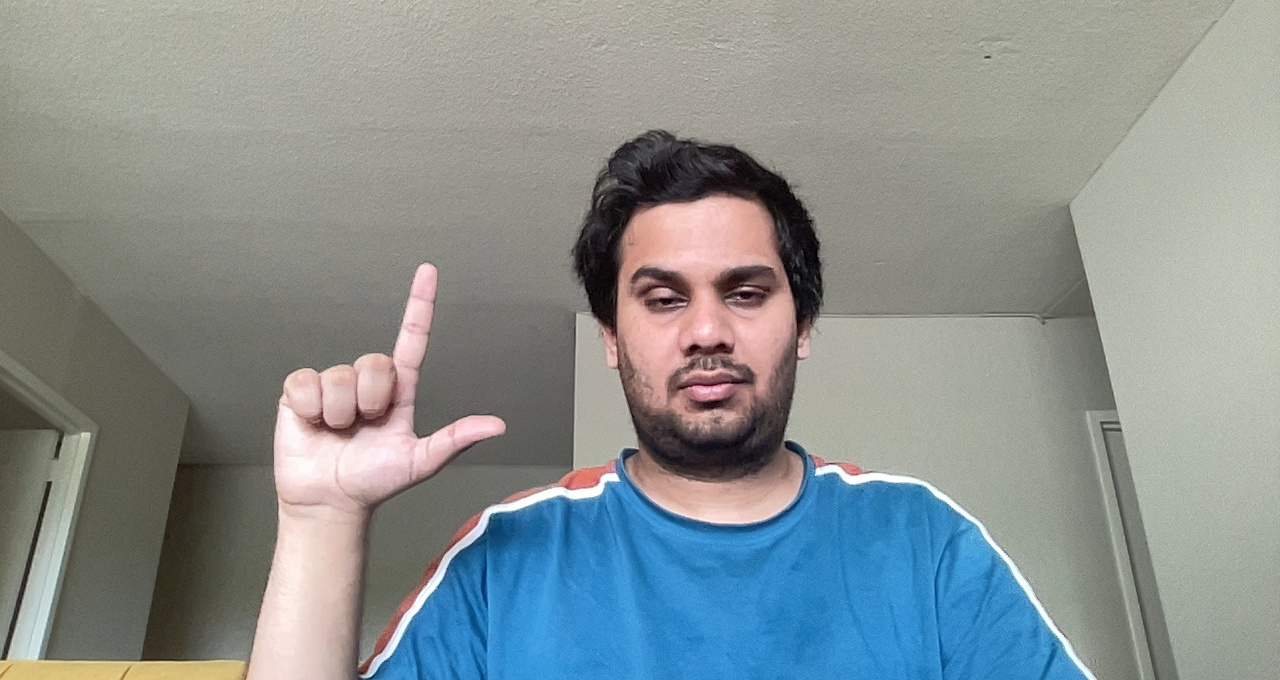L: (258, 258, 511, 508)
